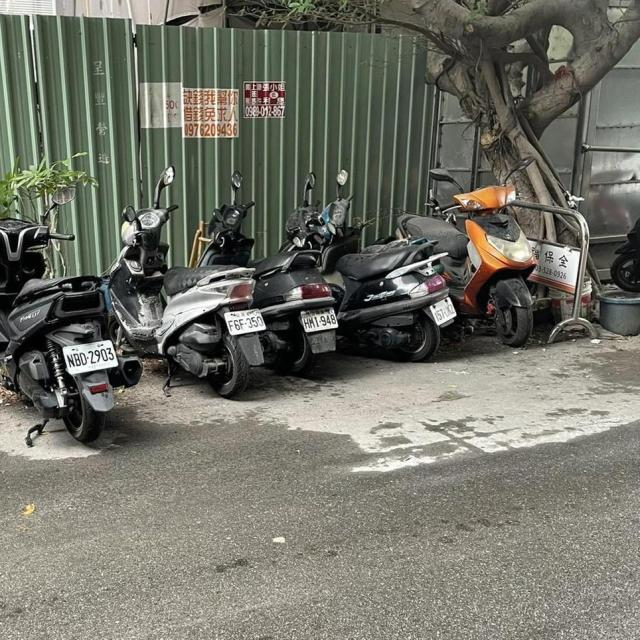W: (59, 338, 122, 375), (219, 304, 268, 337), (295, 303, 342, 334), (426, 292, 462, 326)
